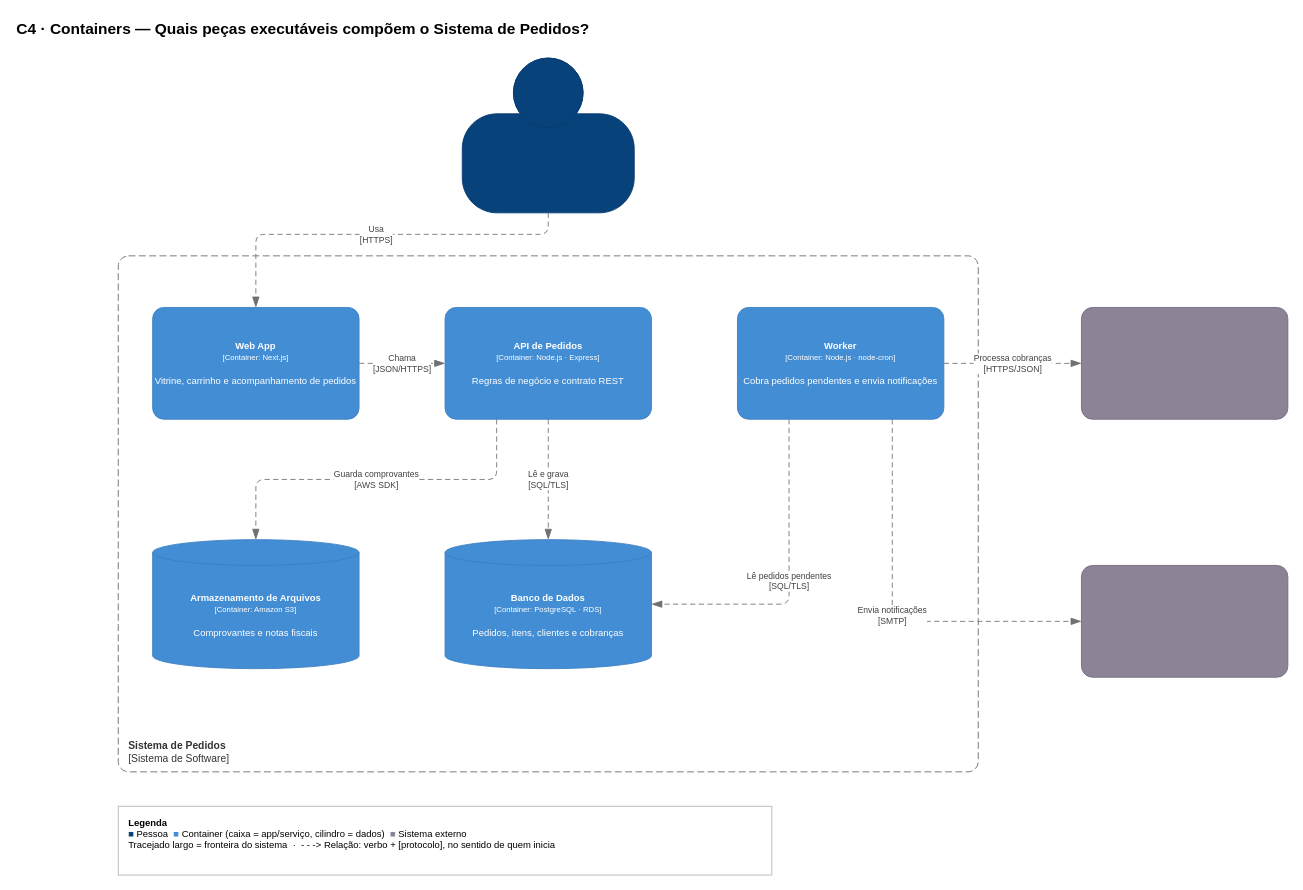
This 1303x890 diagram has some shape labels left out. The centre of each missing label's shape, as x and y in pixels:
"Cliente [Pessoa] Compra e acompanha pedidos" belongs at (547,135).
"Gateway de Pagamento [Sistema Externo] Processa cobranças no cartão e Pix" belongs at (1184,363).
"Provedor de E-mail [Sistema Externo] Entrega e-mails transacionais" belongs at (1184,621).
